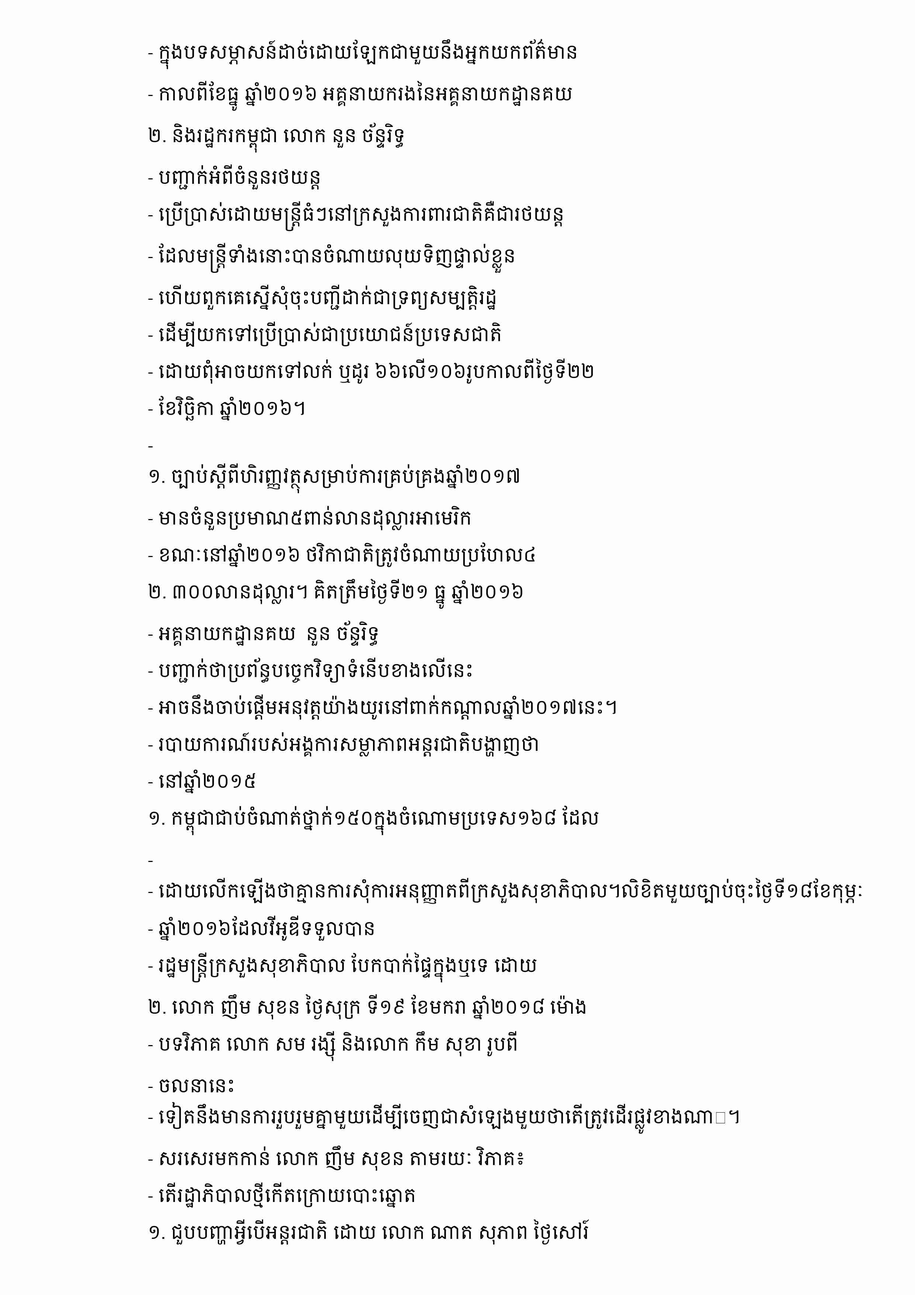text: (148, 1102, 745, 1134), (148, 878, 869, 904), (148, 805, 604, 835), (148, 39, 583, 69), (148, 81, 578, 111), (148, 201, 569, 231), (148, 694, 622, 720), (148, 952, 542, 983), (148, 358, 600, 384), (148, 463, 526, 494), (148, 1219, 594, 1245), (148, 994, 593, 1020), (148, 579, 529, 609), (148, 1031, 524, 1061), (148, 243, 521, 273), (148, 1145, 531, 1171), (148, 732, 545, 757), (148, 542, 542, 567), (148, 322, 507, 347), (148, 285, 503, 310), (148, 657, 478, 683), (148, 506, 477, 530), (148, 123, 410, 153), (148, 1182, 421, 1208), (148, 621, 385, 646), (148, 916, 380, 941), (148, 164, 326, 190), (148, 396, 311, 421), (148, 769, 261, 794), (148, 1079, 240, 1092), (148, 446, 158, 452), (148, 861, 158, 866)
